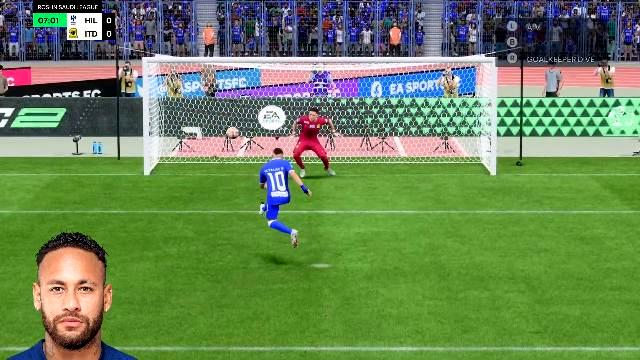bottom-left: (157, 132, 263, 180)
bottom-right: (376, 130, 484, 178)
center-down: (266, 132, 374, 180)
center-up: (265, 66, 373, 128)
football: (222, 124, 242, 140)
goalkeeper: (292, 106, 344, 180)
player: (253, 148, 315, 248)
top-left: (156, 67, 264, 129)
top-right: (374, 67, 486, 128)
